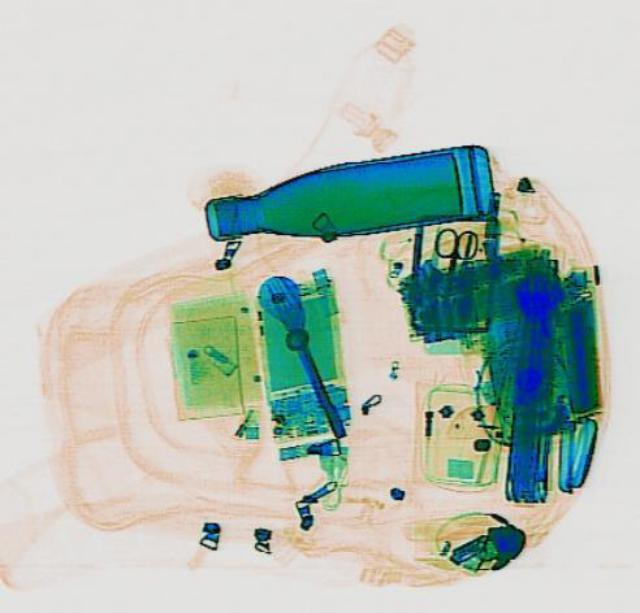Scissors: (419, 224, 479, 311)
